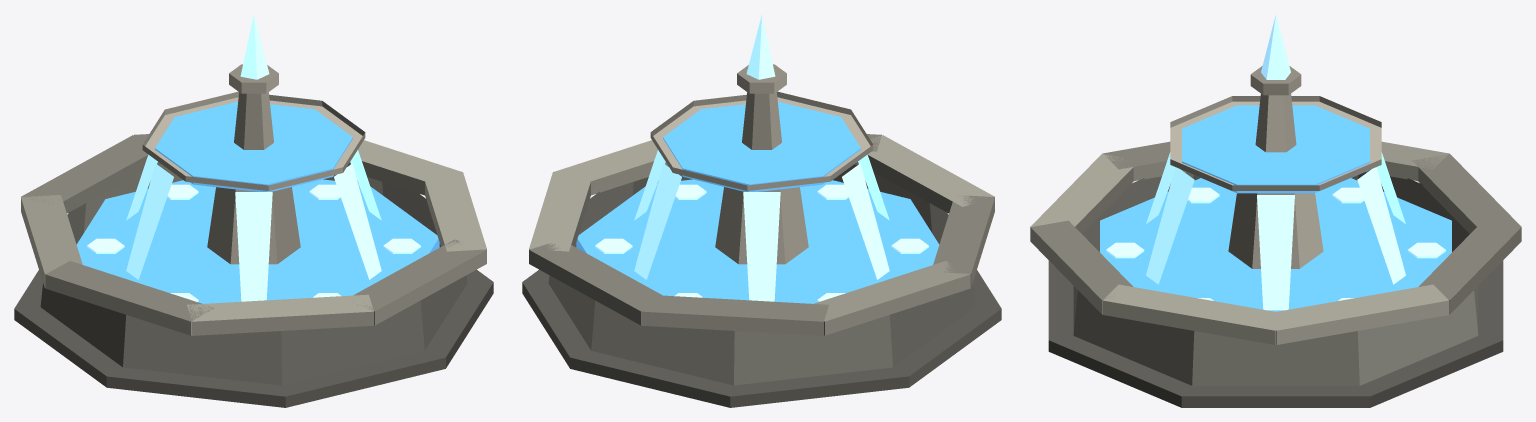
Rendered from fountain.glb.
3 views of the same model, side by side, from view 1: azimuth 30°, elevation 25°; view 2: azimuth 150°, elevation 25°; view 3: azimuth 270°, elevation 25° (orthographic).
Parts seen in each view (by area): view 1: fountain; view 2: fountain; view 3: fountain.
Boxes of the visible parts, <box> form: fountain: <box>14,15,493,407</box>; fountain: <box>522,15,1001,407</box>; fountain: <box>1030,15,1521,407</box>.
Size of the model in its own units: 3.09 by 2.07 by 3.09.
